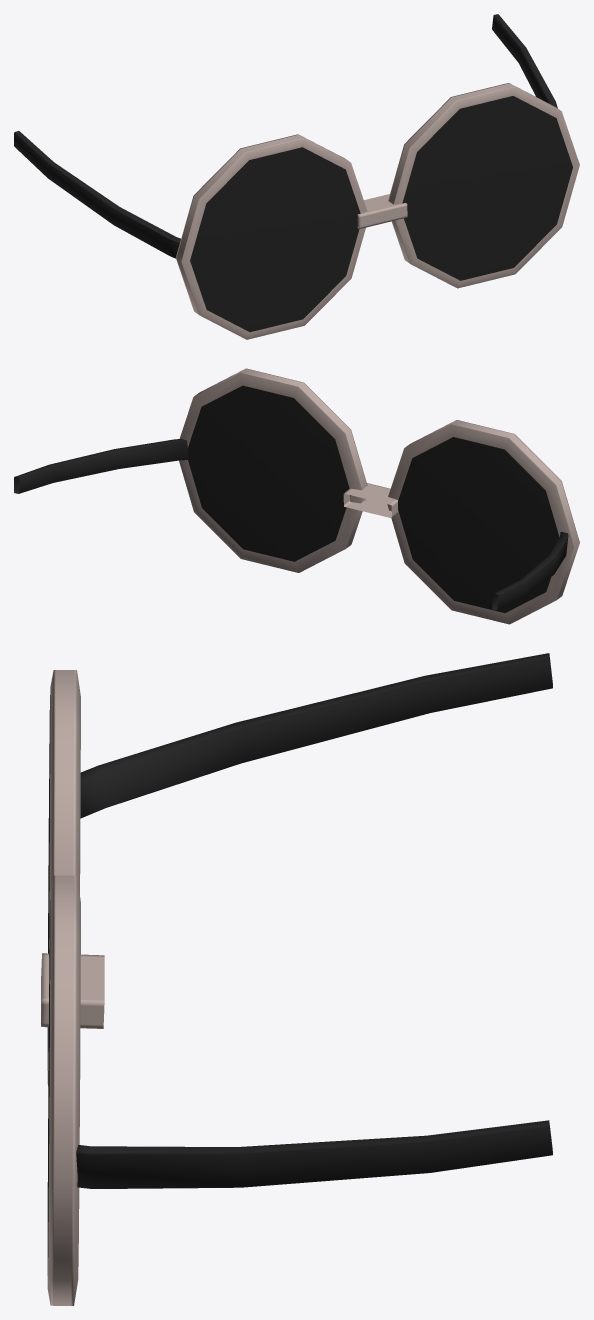
File: Glasses_014.glb
The picture shows the model from 3 angles, top to bottom: view 1: azimuth 30°, elevation 25°; view 2: azimuth 150°, elevation 25°; view 3: azimuth 270°, elevation 25°; orthographic projection. The views are drawn at different scales.
Parts seen in each view (by area): view 1: Glasses_014; view 2: Glasses_014; view 3: Glasses_014.
Boxes of the visible parts, box(x1,y1,x2,y2) form: Glasses_014: box(14, 14, 579, 339); Glasses_014: box(14, 368, 579, 624); Glasses_014: box(41, 653, 552, 1305).
Size of the model in its own units: 0.4089 by 0.1506 by 0.187.
Materials: 1 (1 with a texture image).
